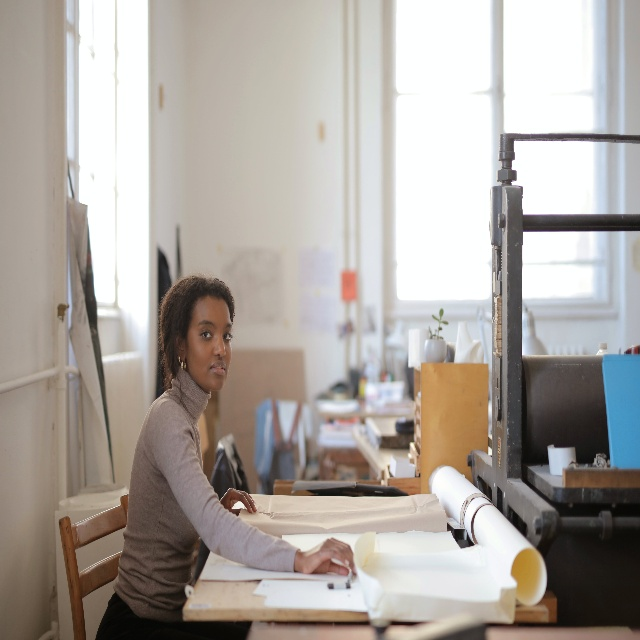Sin_guantes: (301, 534, 357, 576), (220, 487, 257, 519)
